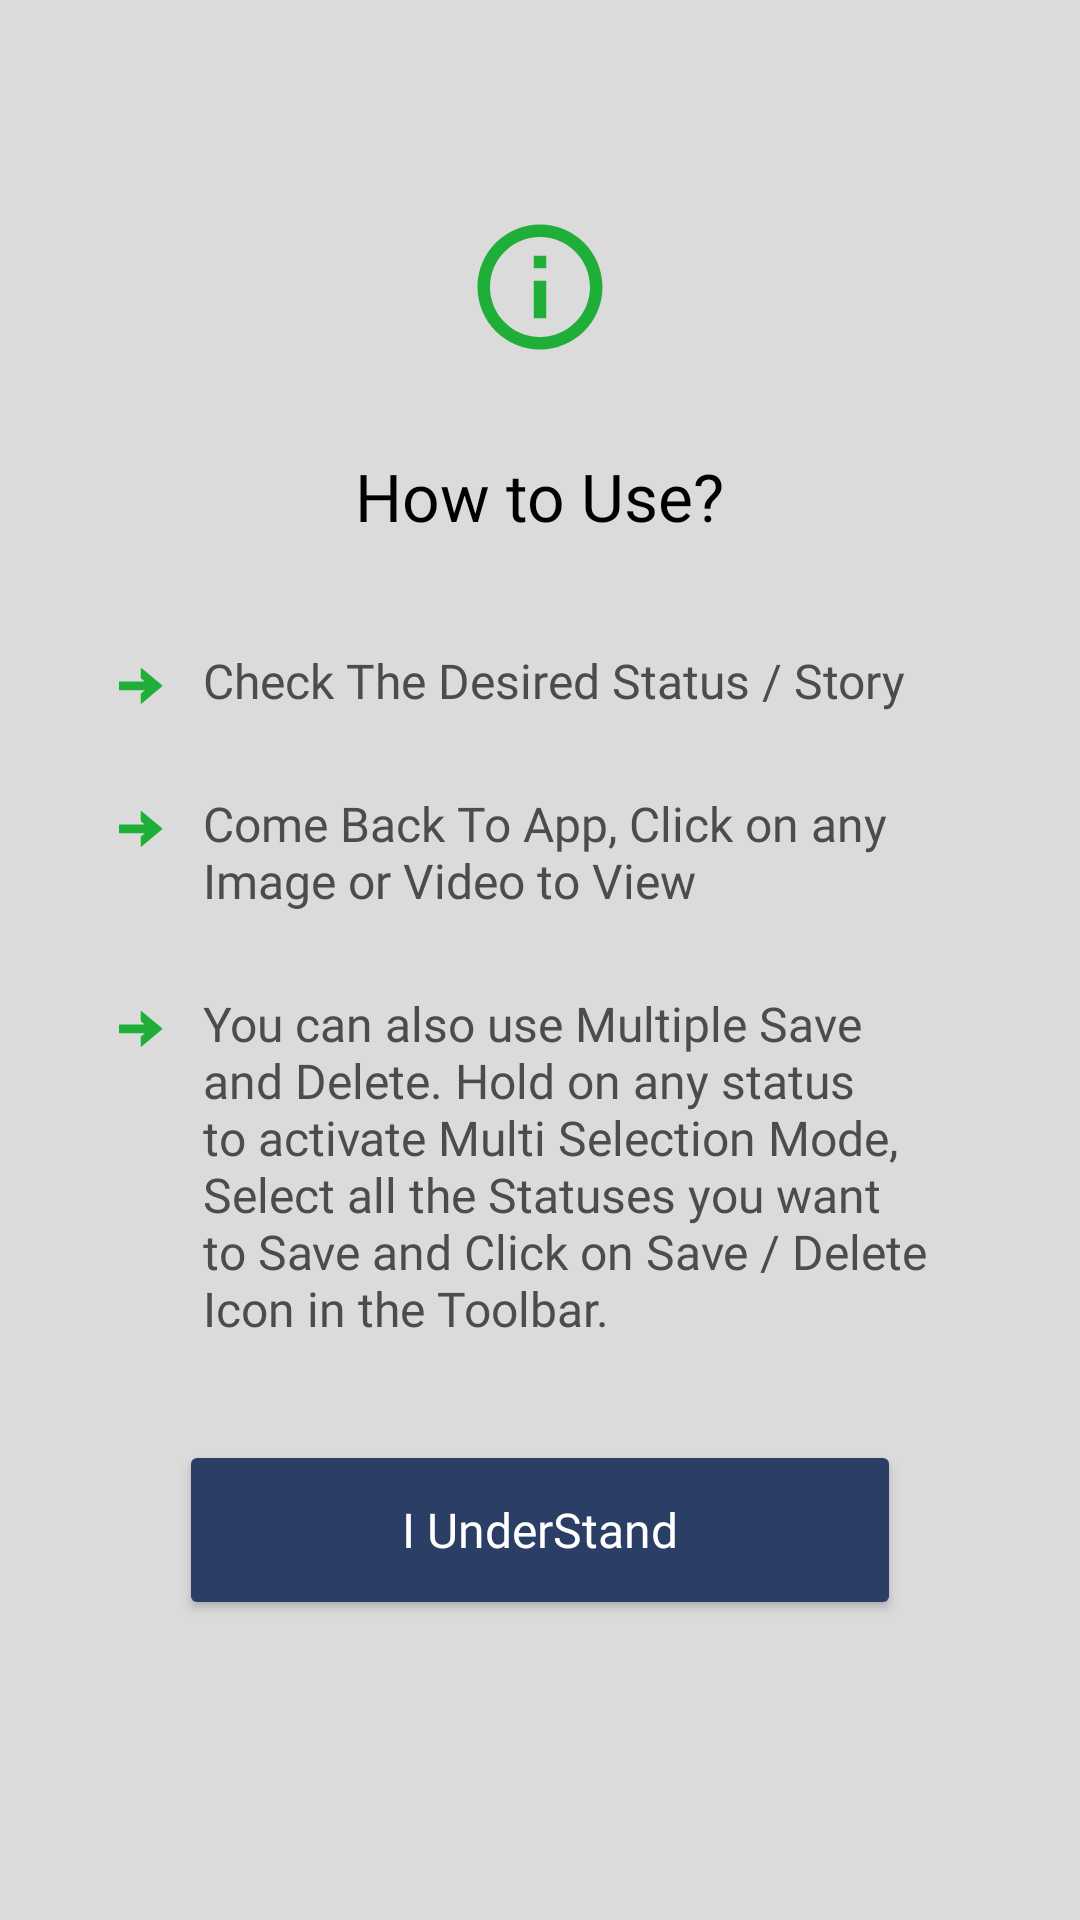

Icon click points for this 1080x1920 phone screenshot, format [x,y]:
arrow: [141,686], [141,829], [141,1029]
info icon: [540,287]
